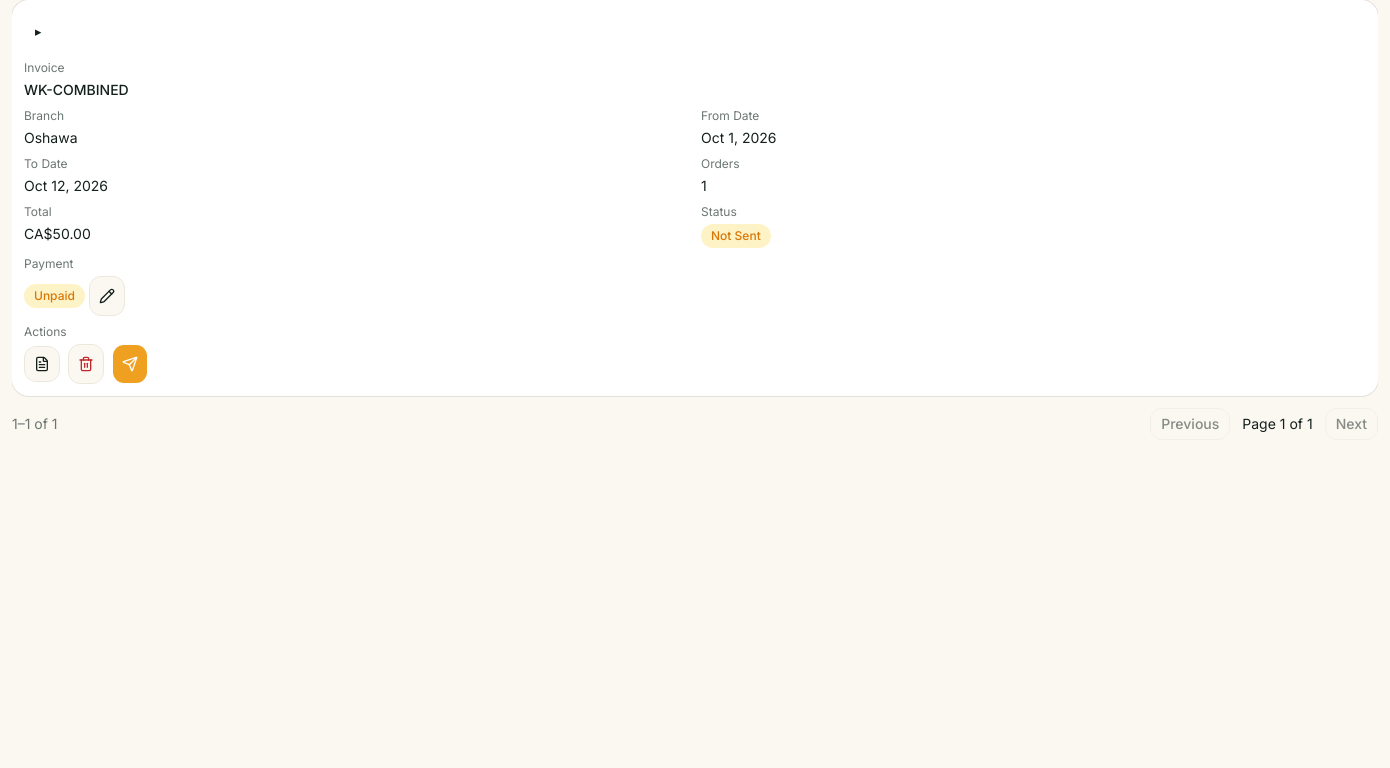
retains individual invoice cards when expanded on mobile
What coordinates should you click on to do the following:
click the button named "Show orders for WK-COMBINED"
I would click on:
 (38, 32)
Its box is top-left (24, 12), bottom-right (52, 52).
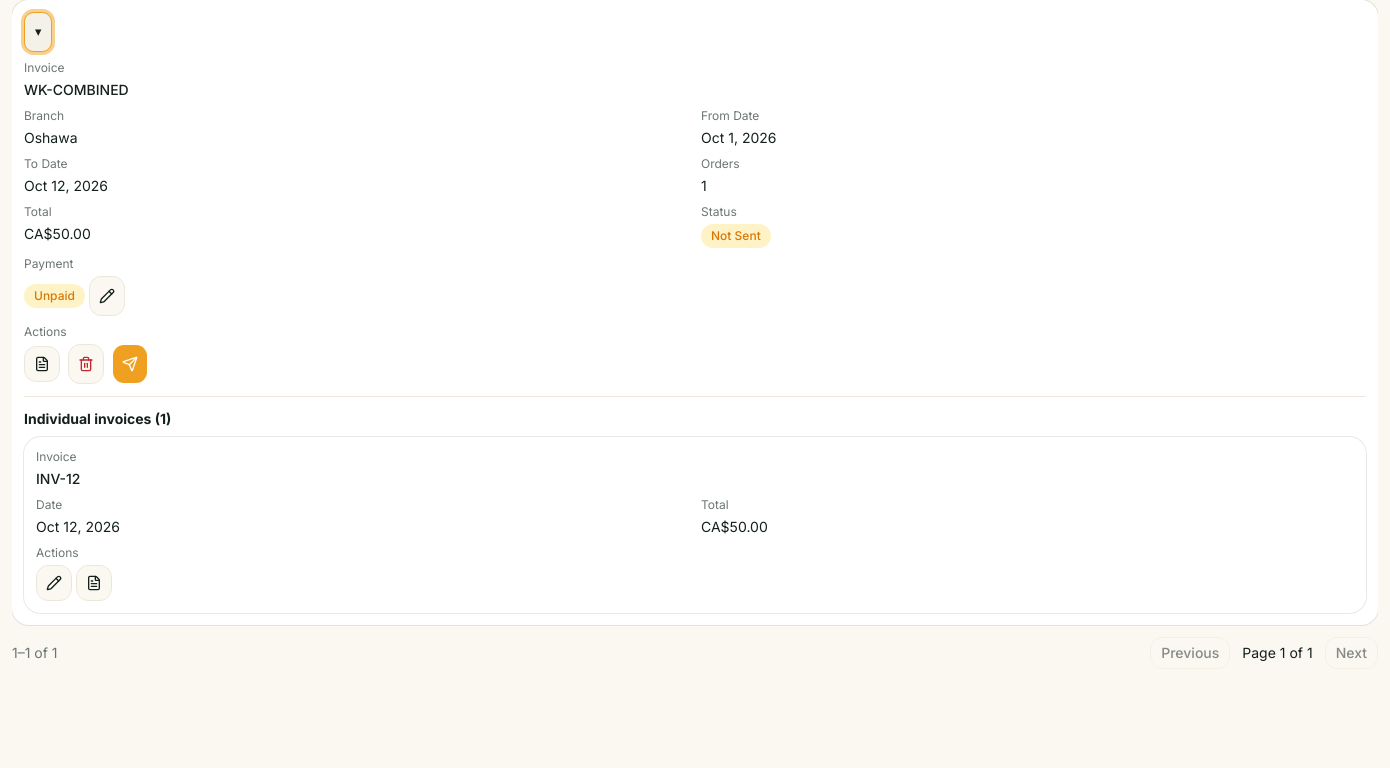
Check: the text "Individual invoices (1)" is shown, box top-left (24, 410), bottom-right (171, 427)
Check: the text "INV-12" is shown, box top-left (36, 470), bottom-right (80, 487)
Check: the link named "Edit invoice" is shown, box top-left (36, 565), bottom-right (72, 601)
